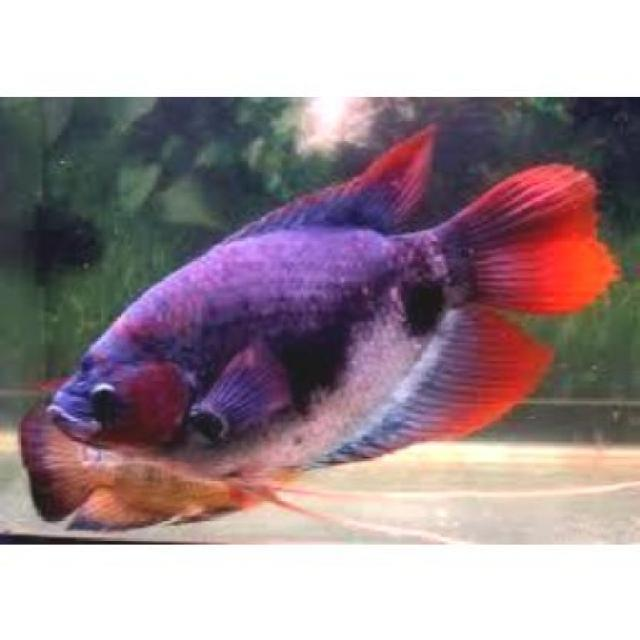gurame: (63, 170, 574, 476)
